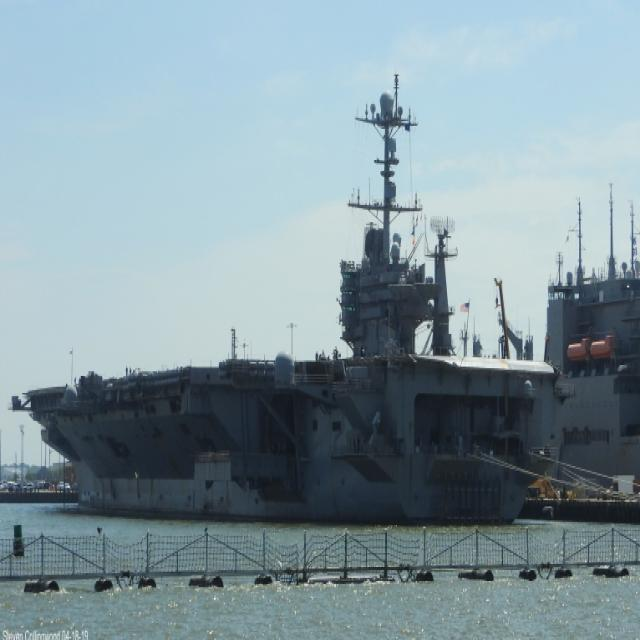Portanaves: (2, 68, 556, 526)
